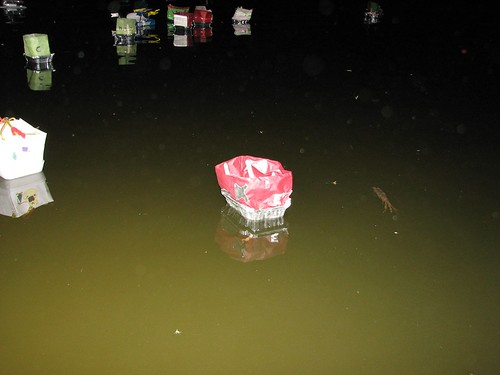trash: (1, 1, 389, 265)
